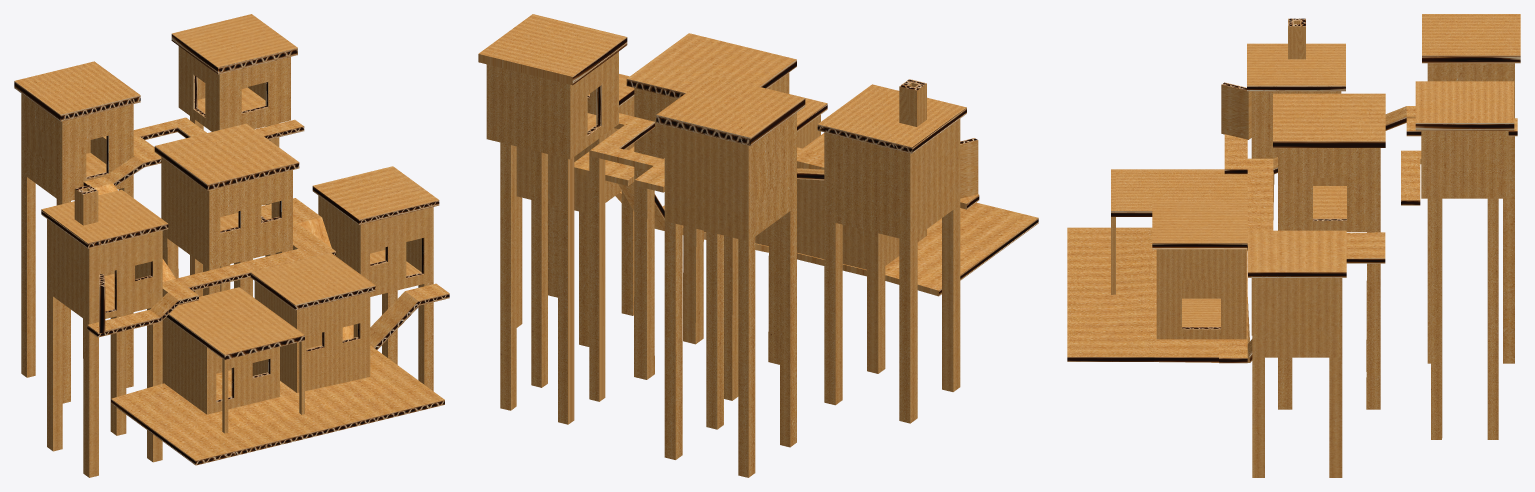
File: scrap_town.fbx
3 views of the same model, side by side, from view 1: azimuth 30°, elevation 25°; view 2: azimuth 150°, elevation 25°; view 3: azimuth 270°, elevation 25° (orthographic). The views are drawn at different scales.
Visible parts, largest first — view 1: Plane, Cube.001, Cube.009, Cube, Cube.008, Cube.011, Cube.015, Cube.016, Cube.005, Cube.012, Cube.013, Cube.014 (+6 smaller); view 2: Cube.004, Cube, Cube.001, Cube.005, Cube.011, Cube.008, Plane, Cube.012, Cube.006, Cube.013, Cube.016, Cube.009 (+3 smaller); view 3: Plane, Cube.004, Cube.005, Cube.009, Cube.015, Cube, Cube.016, Cube.012, Cube.014, Cube.017, Cube.002, Cube.001 (+5 smaller).
Boxes of the visible parts, x1=… form: Plane: x1=83, y1=117, x2=449, y2=465; Cube.001: x1=41, y1=189, x2=168, y2=477; Cube.009: x1=161, y1=157, x2=292, y2=268; Cube: x1=14, y1=61, x2=140, y2=403; Cube.008: x1=47, y1=219, x2=162, y2=322; Cube.011: x1=21, y1=93, x2=133, y2=202; Cube.015: x1=254, y1=281, x2=370, y2=392; Cube.016: x1=318, y1=195, x2=433, y2=296; Cube.005: x1=154, y1=123, x2=299, y2=383; Cube.012: x1=178, y1=46, x2=290, y2=131; Cube.013: x1=164, y1=317, x2=279, y2=414; Cube.014: x1=166, y1=287, x2=304, y2=359; Cube.004: x1=478, y1=14, x2=627, y2=424; Cube: x1=656, y1=75, x2=805, y2=477; Cube.001: x1=817, y1=84, x2=966, y2=423; Cube.005: x1=626, y1=33, x2=796, y2=400; Cube.011: x1=664, y1=112, x2=796, y2=241; Cube.008: x1=824, y1=119, x2=960, y2=240; Plane: x1=574, y1=113, x2=1038, y2=296; Cube.012: x1=486, y1=51, x2=618, y2=159; Cube.006: x1=516, y1=191, x2=634, y2=346; Cube.013: x1=797, y1=179, x2=926, y2=276; Cube.016: x1=516, y1=96, x2=634, y2=213; Cube.009: x1=634, y1=73, x2=789, y2=180; Plane: x1=1067, y1=106, x2=1517, y2=363; Cube.004: x1=1415, y1=81, x2=1514, y2=439; Cube.005: x1=1273, y1=93, x2=1385, y2=409; Cube.009: x1=1278, y1=148, x2=1380, y2=231; Cube.015: x1=1156, y1=249, x2=1246, y2=339; Cube: x1=1422, y1=14, x2=1520, y2=363; Cube.016: x1=1252, y1=278, x2=1342, y2=357; Cube.012: x1=1421, y1=130, x2=1508, y2=198; Cube.014: x1=1111, y1=169, x2=1247, y2=216; Cube.017: x1=1248, y1=230, x2=1346, y2=277; Cube.002: x1=1152, y1=201, x2=1247, y2=249; Cube.001: x1=1247, y1=43, x2=1345, y2=335.
Size of the model in its own units: 962 by 796 by 1008.
